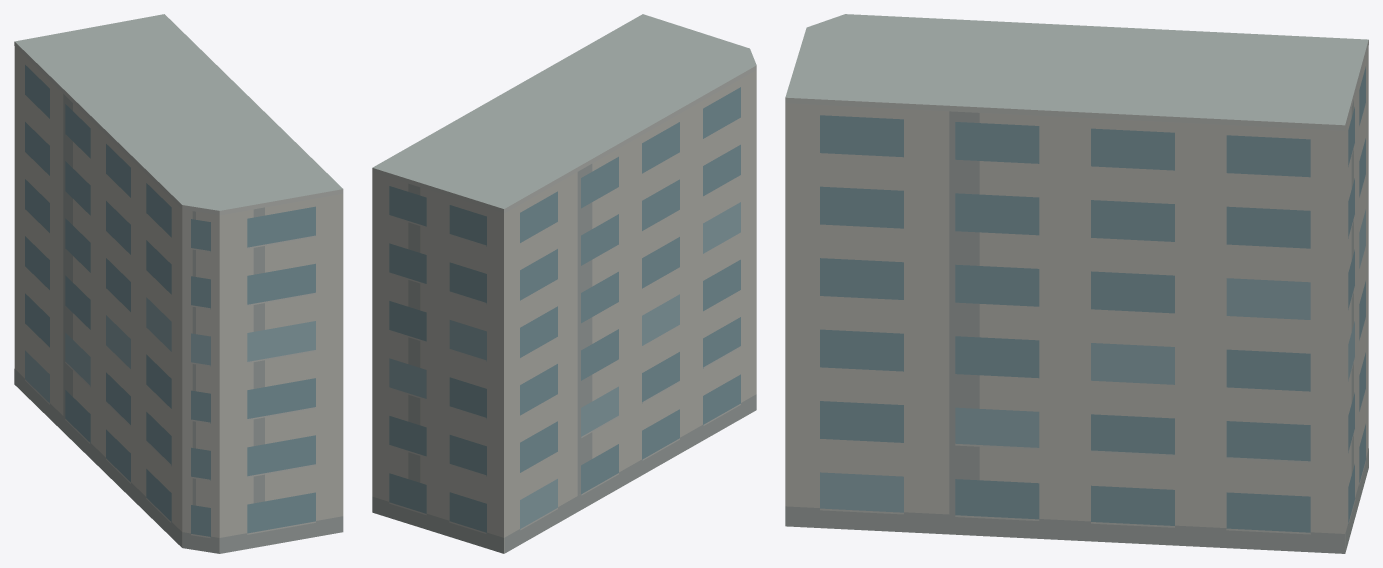
File: survey-upis-33044349.glb
The picture shows the model from 3 angles, left to right: view 1: azimuth 30°, elevation 25°; view 2: azimuth 150°, elevation 25°; view 3: azimuth 270°, elevation 25°; orthographic projection. The views are drawn at different scales.
Visible parts, largest first — view 1: survey-upis-33044349.tmp; view 2: survey-upis-33044349.tmp; view 3: survey-upis-33044349.tmp.
Boxes of the visible parts, x1,y1,x2,y2 form: survey-upis-33044349.tmp: (14, 14, 343, 553); survey-upis-33044349.tmp: (372, 14, 756, 553); survey-upis-33044349.tmp: (785, 14, 1368, 553).
Size of the model in its own units: 10.36 by 18.6 by 22.96.
